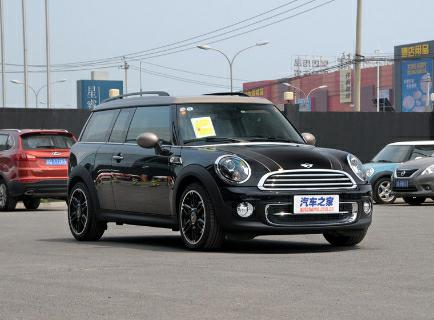MINI CLUBMAN: (56, 103, 384, 253)
